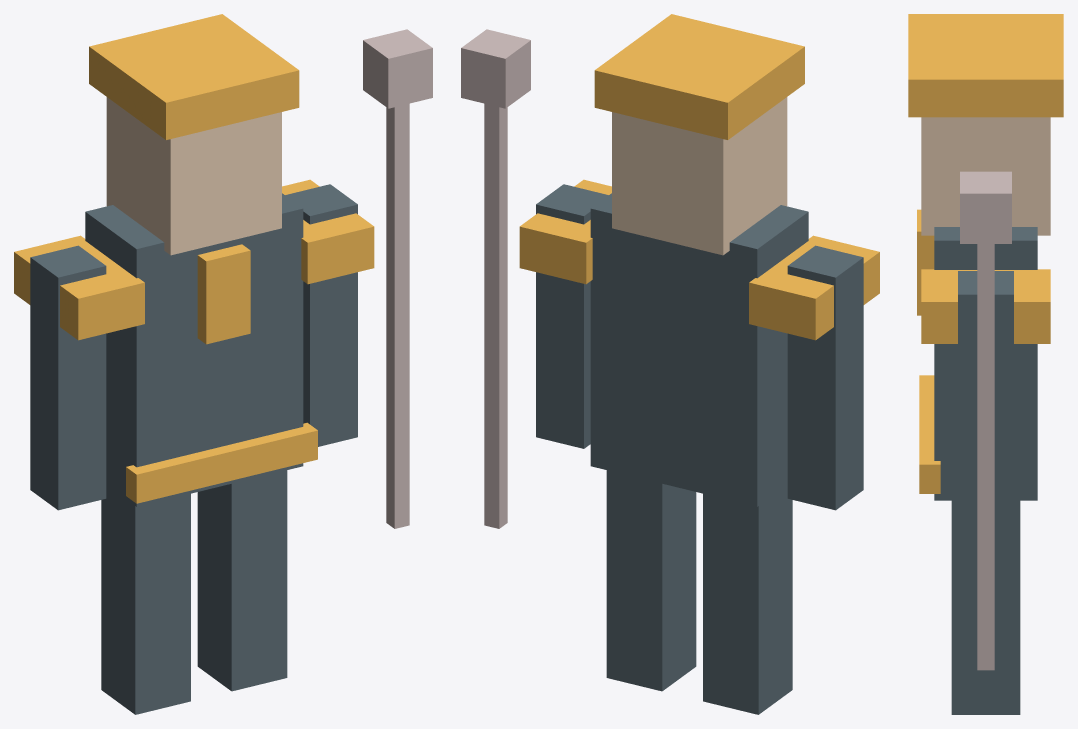
File: 13_pax_holloway_runner_from_containment.glb
3 renders of one model, left to right at view 1: azimuth 30°, elevation 25°; view 2: azimuth 150°, elevation 25°; view 3: azimuth 270°, elevation 25°, orthographic.
Parts seen in each view (by area): view 1: Pax Holloway, Runner from Containment; view 2: Pax Holloway, Runner from Containment; view 3: Pax Holloway, Runner from Containment.
Part boxes in pixels (<box>): Pax Holloway, Runner from Containment: <box>14,14,432,714</box>; Pax Holloway, Runner from Containment: <box>461,14,879,714</box>; Pax Holloway, Runner from Containment: <box>908,14,1063,714</box>.
Size of the model in its own units: 0.9757 by 1.55 by 0.346.
